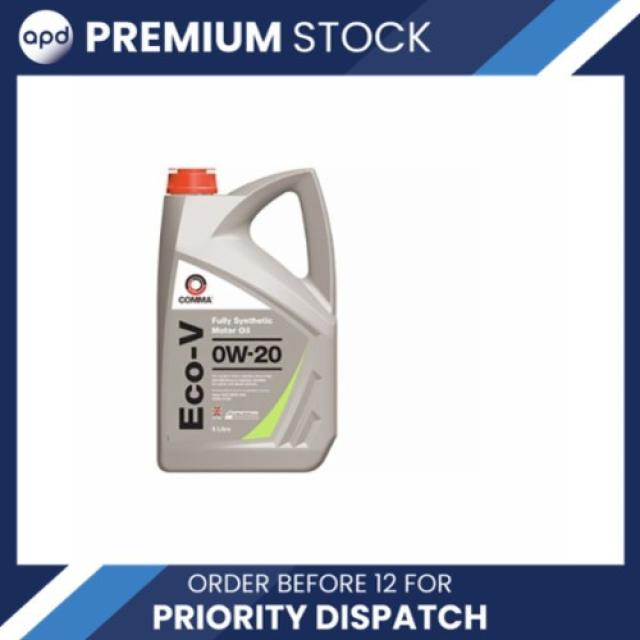motor_oil: (150, 150, 352, 483)
